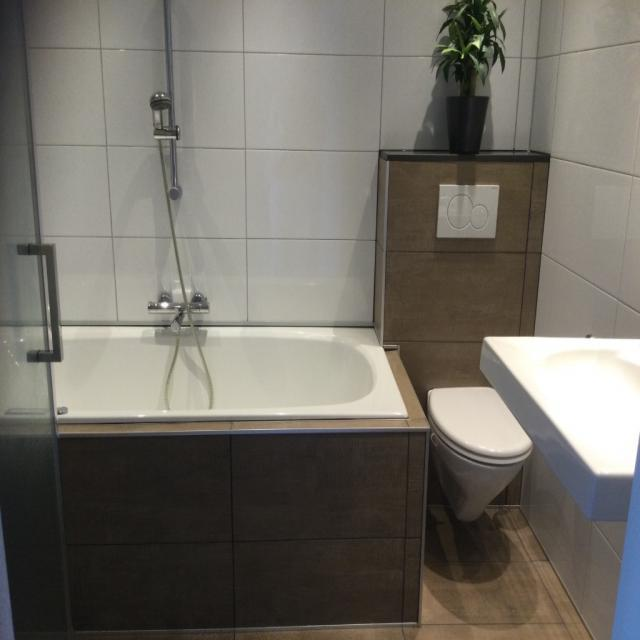bath: (0, 290, 409, 424)
douche: (0, 0, 71, 640)
toilet: (426, 182, 534, 524)
wastafel: (484, 336, 640, 474)
